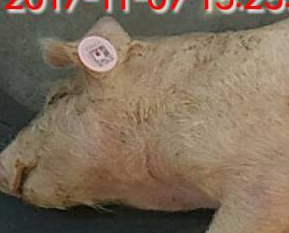text: (68, 29, 131, 80)
